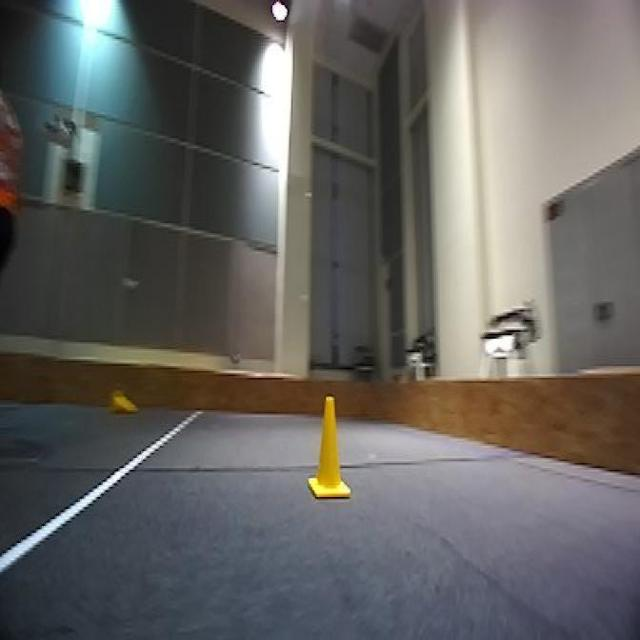frc_cone: (310, 404, 350, 502), (105, 386, 140, 419)
